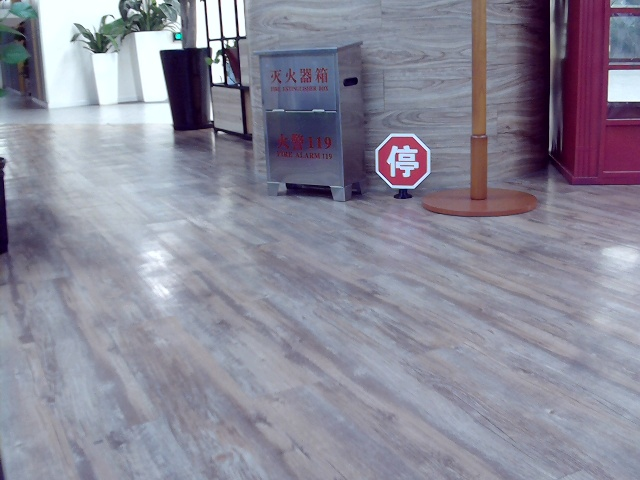stop: (382, 141, 418, 177)
